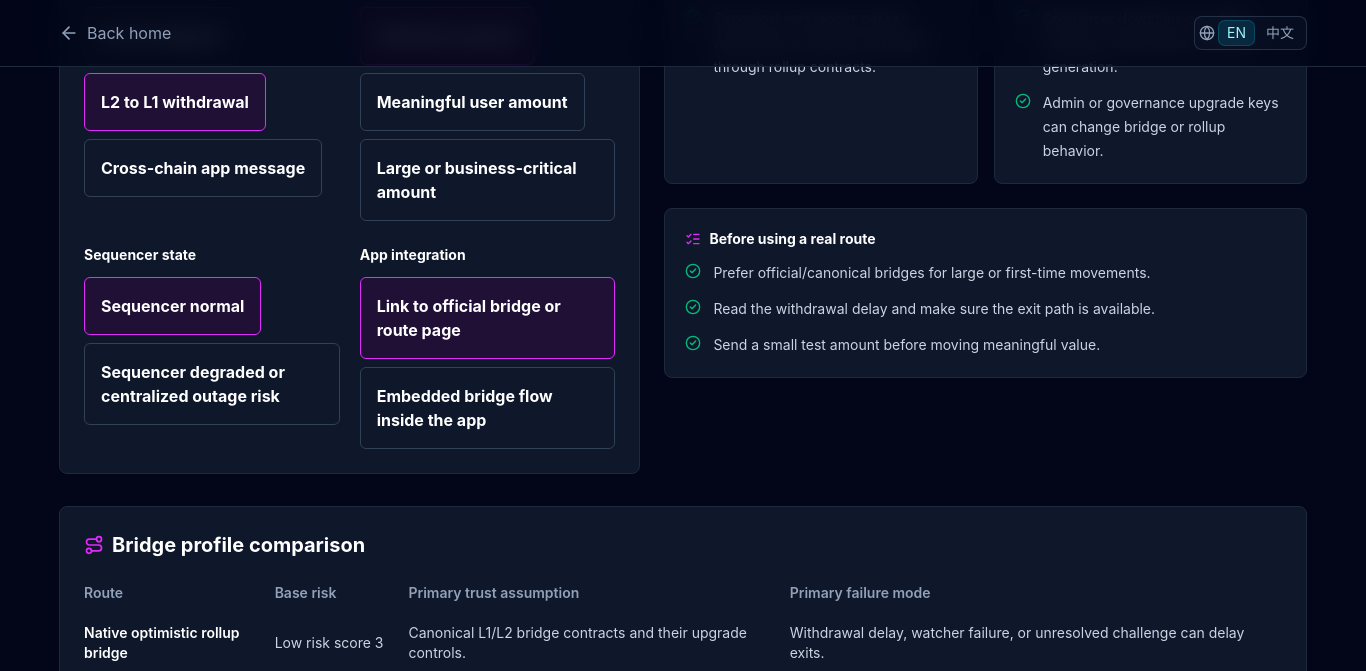
Scenario: L2RiskLabPage › adds live liveness risk when the sequencer is degraded
(page scrolled)
Click the button "Sequencer degraded or centralized outage risk" at (212, 384), box [84,343,340,425]
(page scrolled)
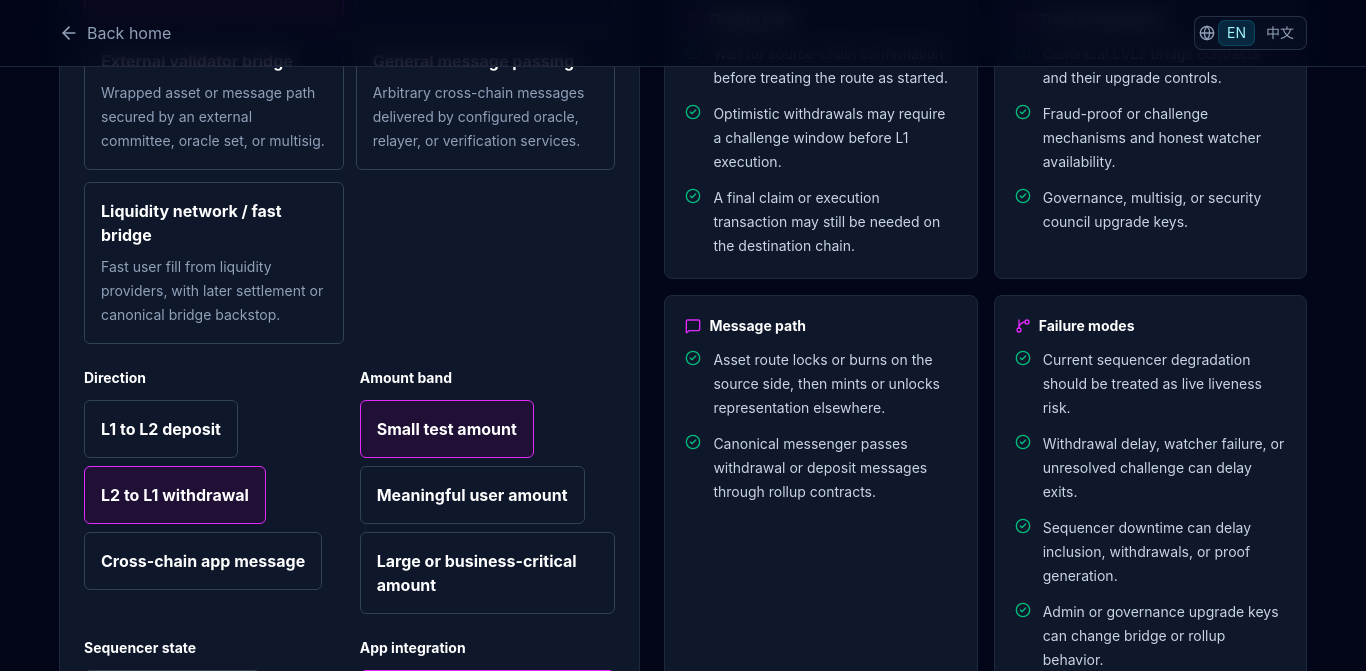
Check: the text "Current sequencer degradation" is shown, box [1043,351,1262,416]
